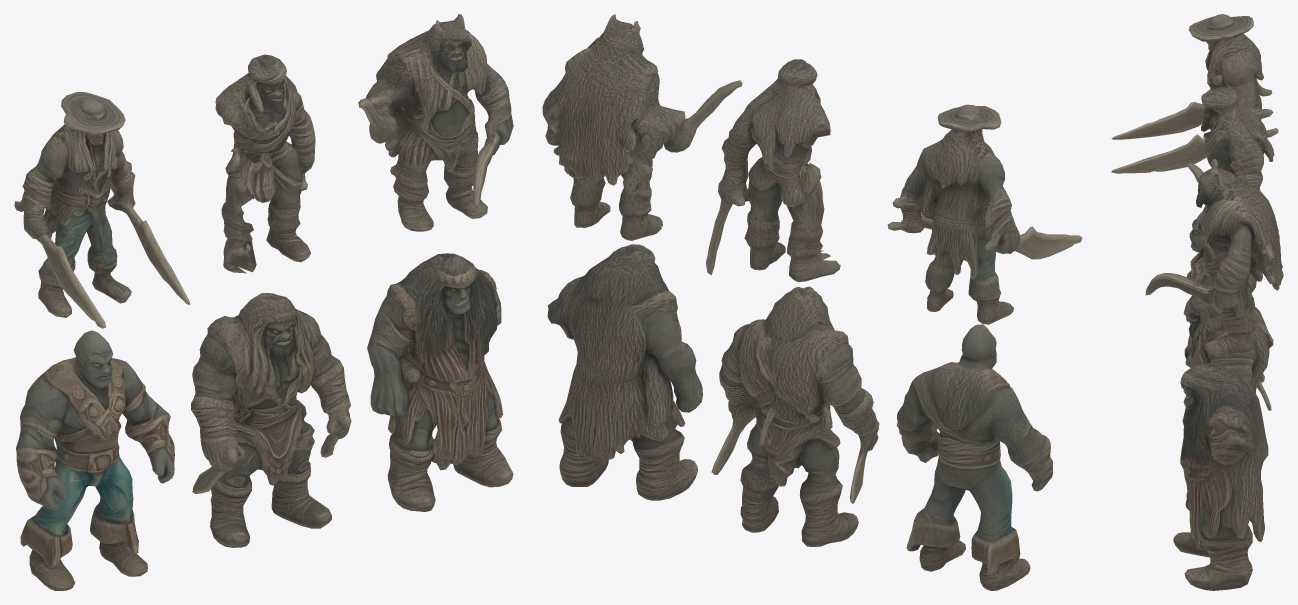
The model's file is enemies_bandits_b.glb.
The picture shows the model from 3 angles, left to right: view 1: azimuth 30°, elevation 25°; view 2: azimuth 150°, elevation 25°; view 3: azimuth 270°, elevation 25°; orthographic projection. The views are drawn at different scales.
Bounding box in the file's own units: 1.89 × 1.7 × 0.6536.
1 material, 1 textured.
